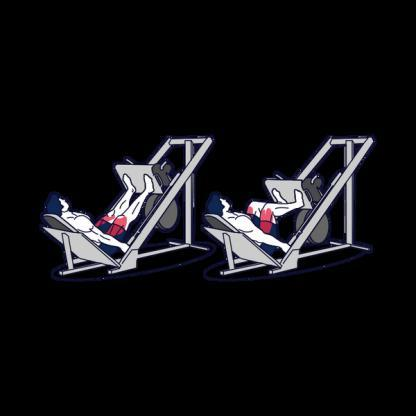leg press: (20, 85, 213, 306), (201, 126, 387, 285)
